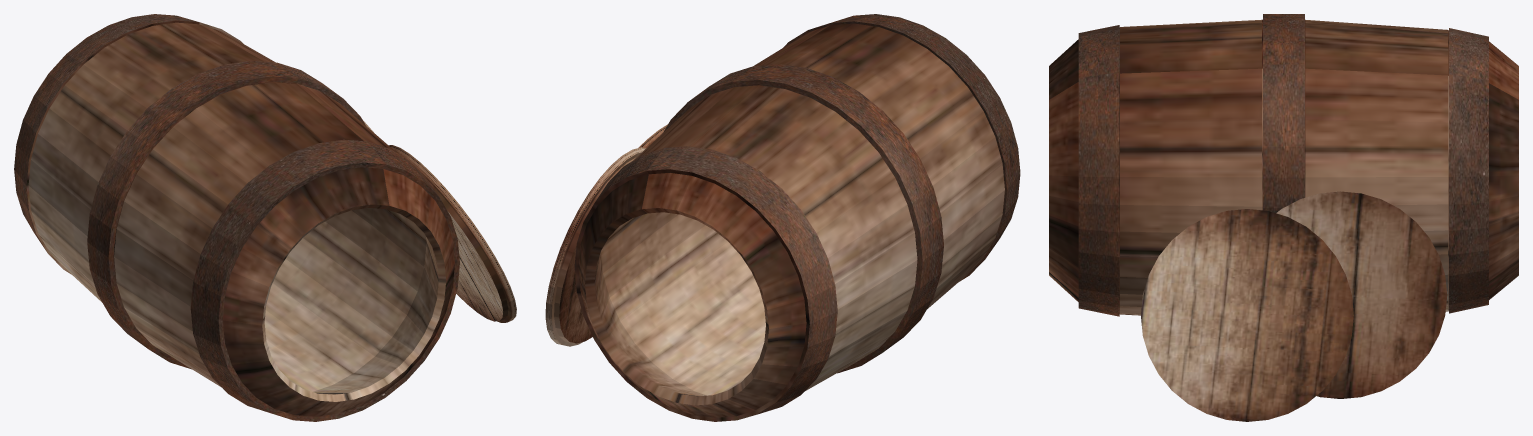
The model's file is BarrelWithoutLid(Wooden).fbx.
The picture shows the model from 3 angles, left to right: view 1: azimuth 30°, elevation 25°; view 2: azimuth 150°, elevation 25°; view 3: azimuth 270°, elevation 25°; orthographic projection.
Parts seen in each view (by area): view 1: WoodenBarrel2; view 2: WoodenBarrel2; view 3: WoodenBarrel2.
Boxes of the visible parts, x1=… form: WoodenBarrel2: x1=14, y1=14, x2=516, y2=421; WoodenBarrel2: x1=545, y1=14, x2=1020, y2=421; WoodenBarrel2: x1=1049, y1=14, x2=1518, y2=421.
Bounding box in the file's own units: 419 × 309 × 462.
